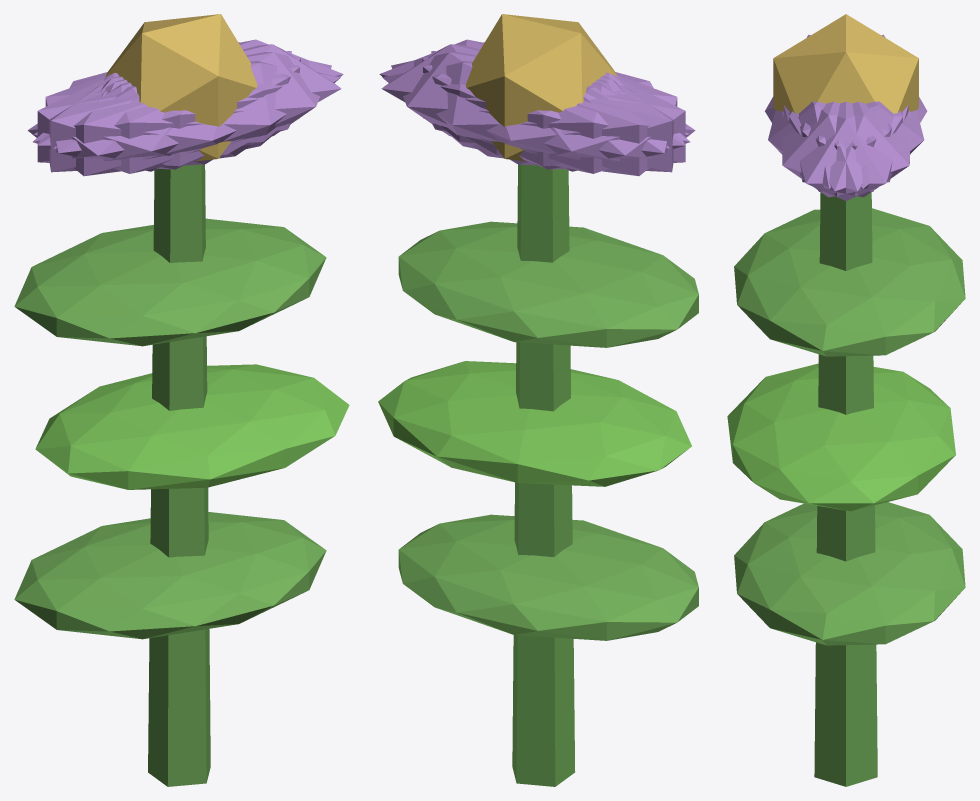
File: hedera-canariensis.glb
3 renders of one model, left to right at view 1: azimuth 30°, elevation 25°; view 2: azimuth 150°, elevation 25°; view 3: azimuth 270°, elevation 25°, orthographic.
Parts seen in each view (by area): view 1: leaf2, leaf1, leaf0, stem, center, petal1, petal6, petal2, petal5, petal7, petal0, petal4 (+2 smaller); view 2: leaf2, leaf0, leaf1, stem, center, petal8, petal3, petal7, petal4, petal2, petal0, petal5 (+2 smaller); view 3: leaf1, leaf2, leaf0, stem, center, petal0, petal5, petal4, petal1, petal8.
Part boxes in pixels (<box>): leaf2: <box>14,218,326,346</box>; leaf1: <box>35,364,349,489</box>; leaf0: <box>14,512,326,639</box>; stem: <box>148,164,210,786</box>; center: <box>105,14,257,161</box>; petal1: <box>33,61,340,173</box>; petal6: <box>28,74,250,176</box>; petal2: <box>49,51,291,172</box>; petal5: <box>53,52,331,166</box>; petal7: <box>37,57,300,169</box>; petal0: <box>105,44,341,155</box>; petal4: <box>34,39,343,145</box>; leaf2: <box>398,221,698,347</box>; leaf0: <box>398,514,698,640</box>; leaf1: <box>378,361,691,486</box>; stem: <box>512,164,575,786</box>; center: <box>466,14,617,161</box>; petal8: <box>382,61,690,173</box>; petal3: <box>472,74,695,176</box>; petal7: <box>431,51,673,172</box>; petal4: <box>391,52,669,166</box>; petal2: <box>422,57,685,169</box>; petal0: <box>381,44,617,155</box>; petal5: <box>379,39,688,145</box>; leaf1: <box>727,363,955,511</box>; leaf2: <box>734,208,965,356</box>; leaf0: <box>734,502,965,645</box>; stem: <box>814,192,877,786</box>; center: <box>773,14,918,113</box>; petal0: <box>783,102,908,200</box>; petal5: <box>781,101,902,197</box>; petal4: <box>789,101,910,197</box>; petal1: <box>768,101,891,188</box>; petal8: <box>800,101,924,188</box>.
Size of the model in its own units: 0.1474 by 0.3433 by 0.1002.
